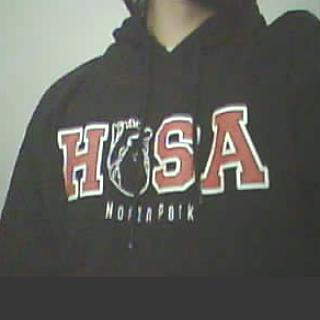HOSA Hoodie: (0, 26, 320, 320)
